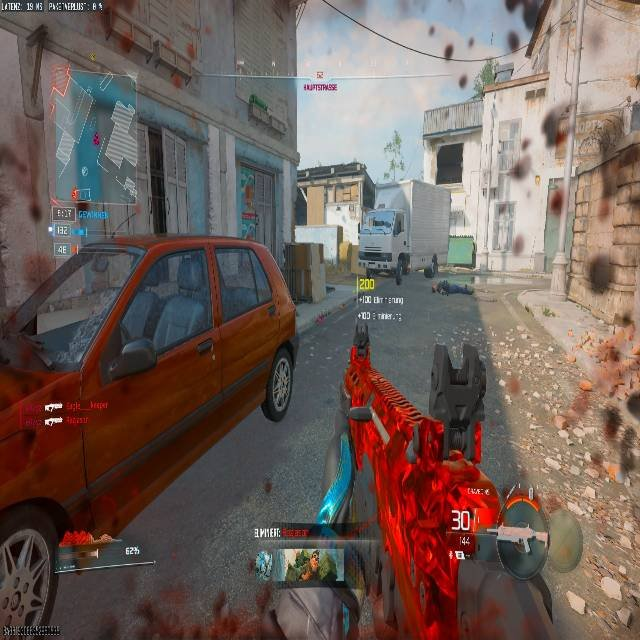player: (430, 253, 438, 271)
